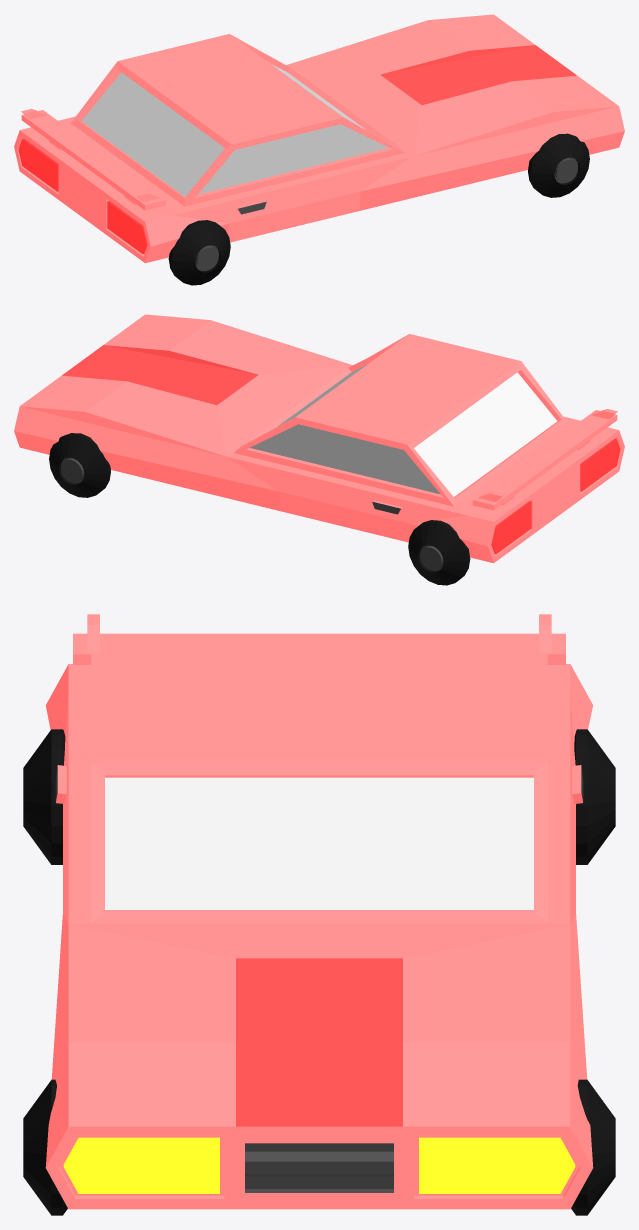
File: spelersauto.fbx
3 views of the same model, one above another, from view 1: azimuth 30°, elevation 25°; view 2: azimuth 150°, elevation 25°; view 3: azimuth 270°, elevation 25° (orthographic). The views are drawn at different scales.
Visible parts, largest first — view 1: Cube, Cylinder; view 2: Cube, Cylinder; view 3: Cube, Cylinder.
Part boxes in pixels (x1,y1,x2,y2): Cube: (14, 14, 624, 263); Cylinder: (168, 133, 589, 285); Cube: (14, 314, 624, 563); Cylinder: (49, 433, 470, 585); Cube: (45, 614, 593, 1209); Cylinder: (23, 729, 615, 1215).
Size of the model in its own units: 484 by 119 by 260.
